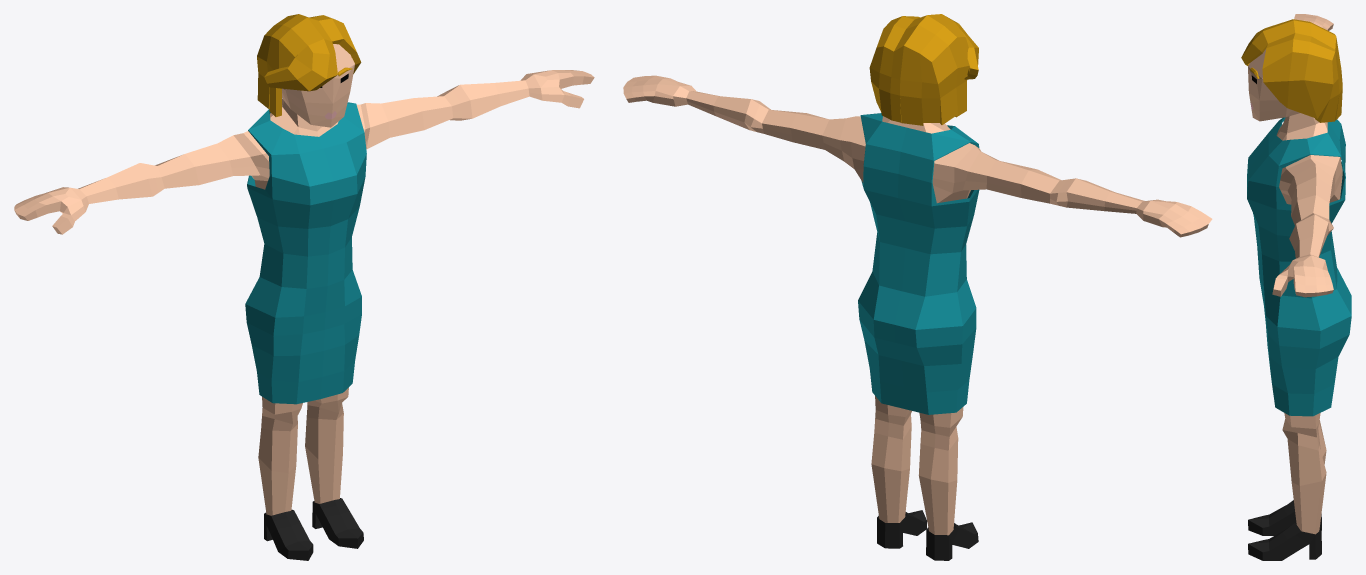
File: NPC_W_Cian_Escenario2_PeloCorto.fbx
3 renders of one model, left to right at view 1: azimuth 30°, elevation 25°; view 2: azimuth 150°, elevation 25°; view 3: azimuth 270°, elevation 25°, orthographic.
Visible parts, largest first — view 1: Vestido; view 2: Vestido; view 3: Vestido.
Part boxes in pixels (<box>): Vestido: <box>14,14,594,560</box>; Vestido: <box>623,14,1212,560</box>; Vestido: <box>1241,14,1351,560</box>.
Bounding box in the file's own units: 215 × 187 × 35.99.
